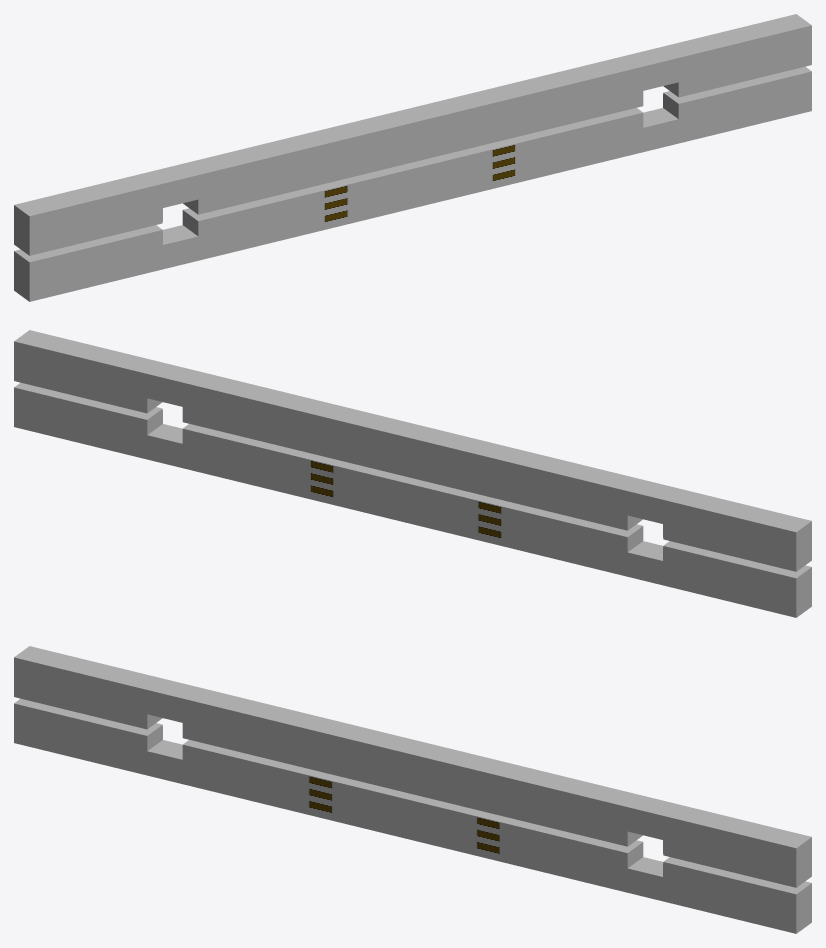
Rendered from LabSim_Model3.FBX.
3 renders of one model, top to bottom at view 1: azimuth 30°, elevation 25°; view 2: azimuth 150°, elevation 25°; view 3: azimuth 330°, elevation 25°, orthographic.
Visible parts, largest first — view 1: 对象001; view 2: 对象001; view 3: 对象001.
Boxes of the visible parts, box(x1,y1,x2,y2) form: 对象001: box(14, 14, 811, 301); 对象001: box(14, 330, 811, 617); 对象001: box(14, 646, 811, 933).
Size of the model in its own units: 67.23 by 7.03 by 2.32.
Materials: 1 (1 with a texture image).
